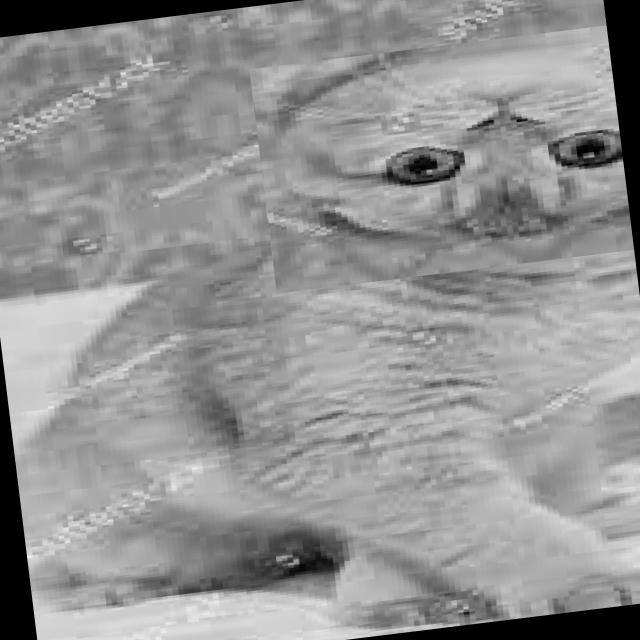scootish: (249, 25, 634, 293)
